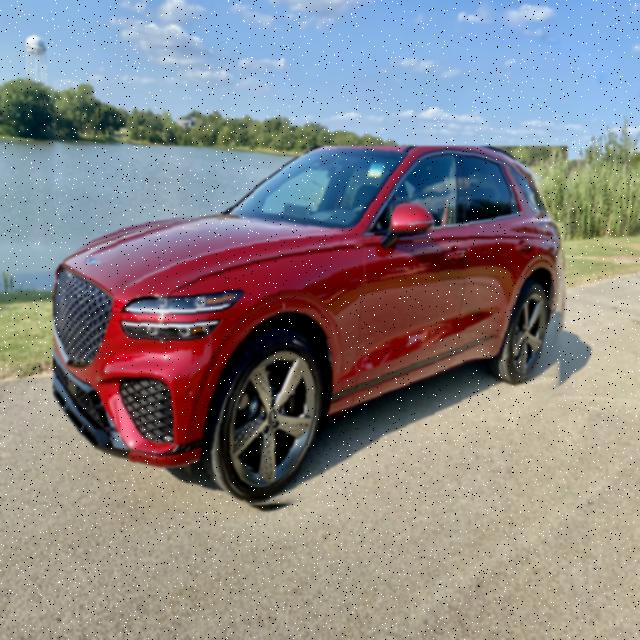car: (54, 147, 570, 514)
